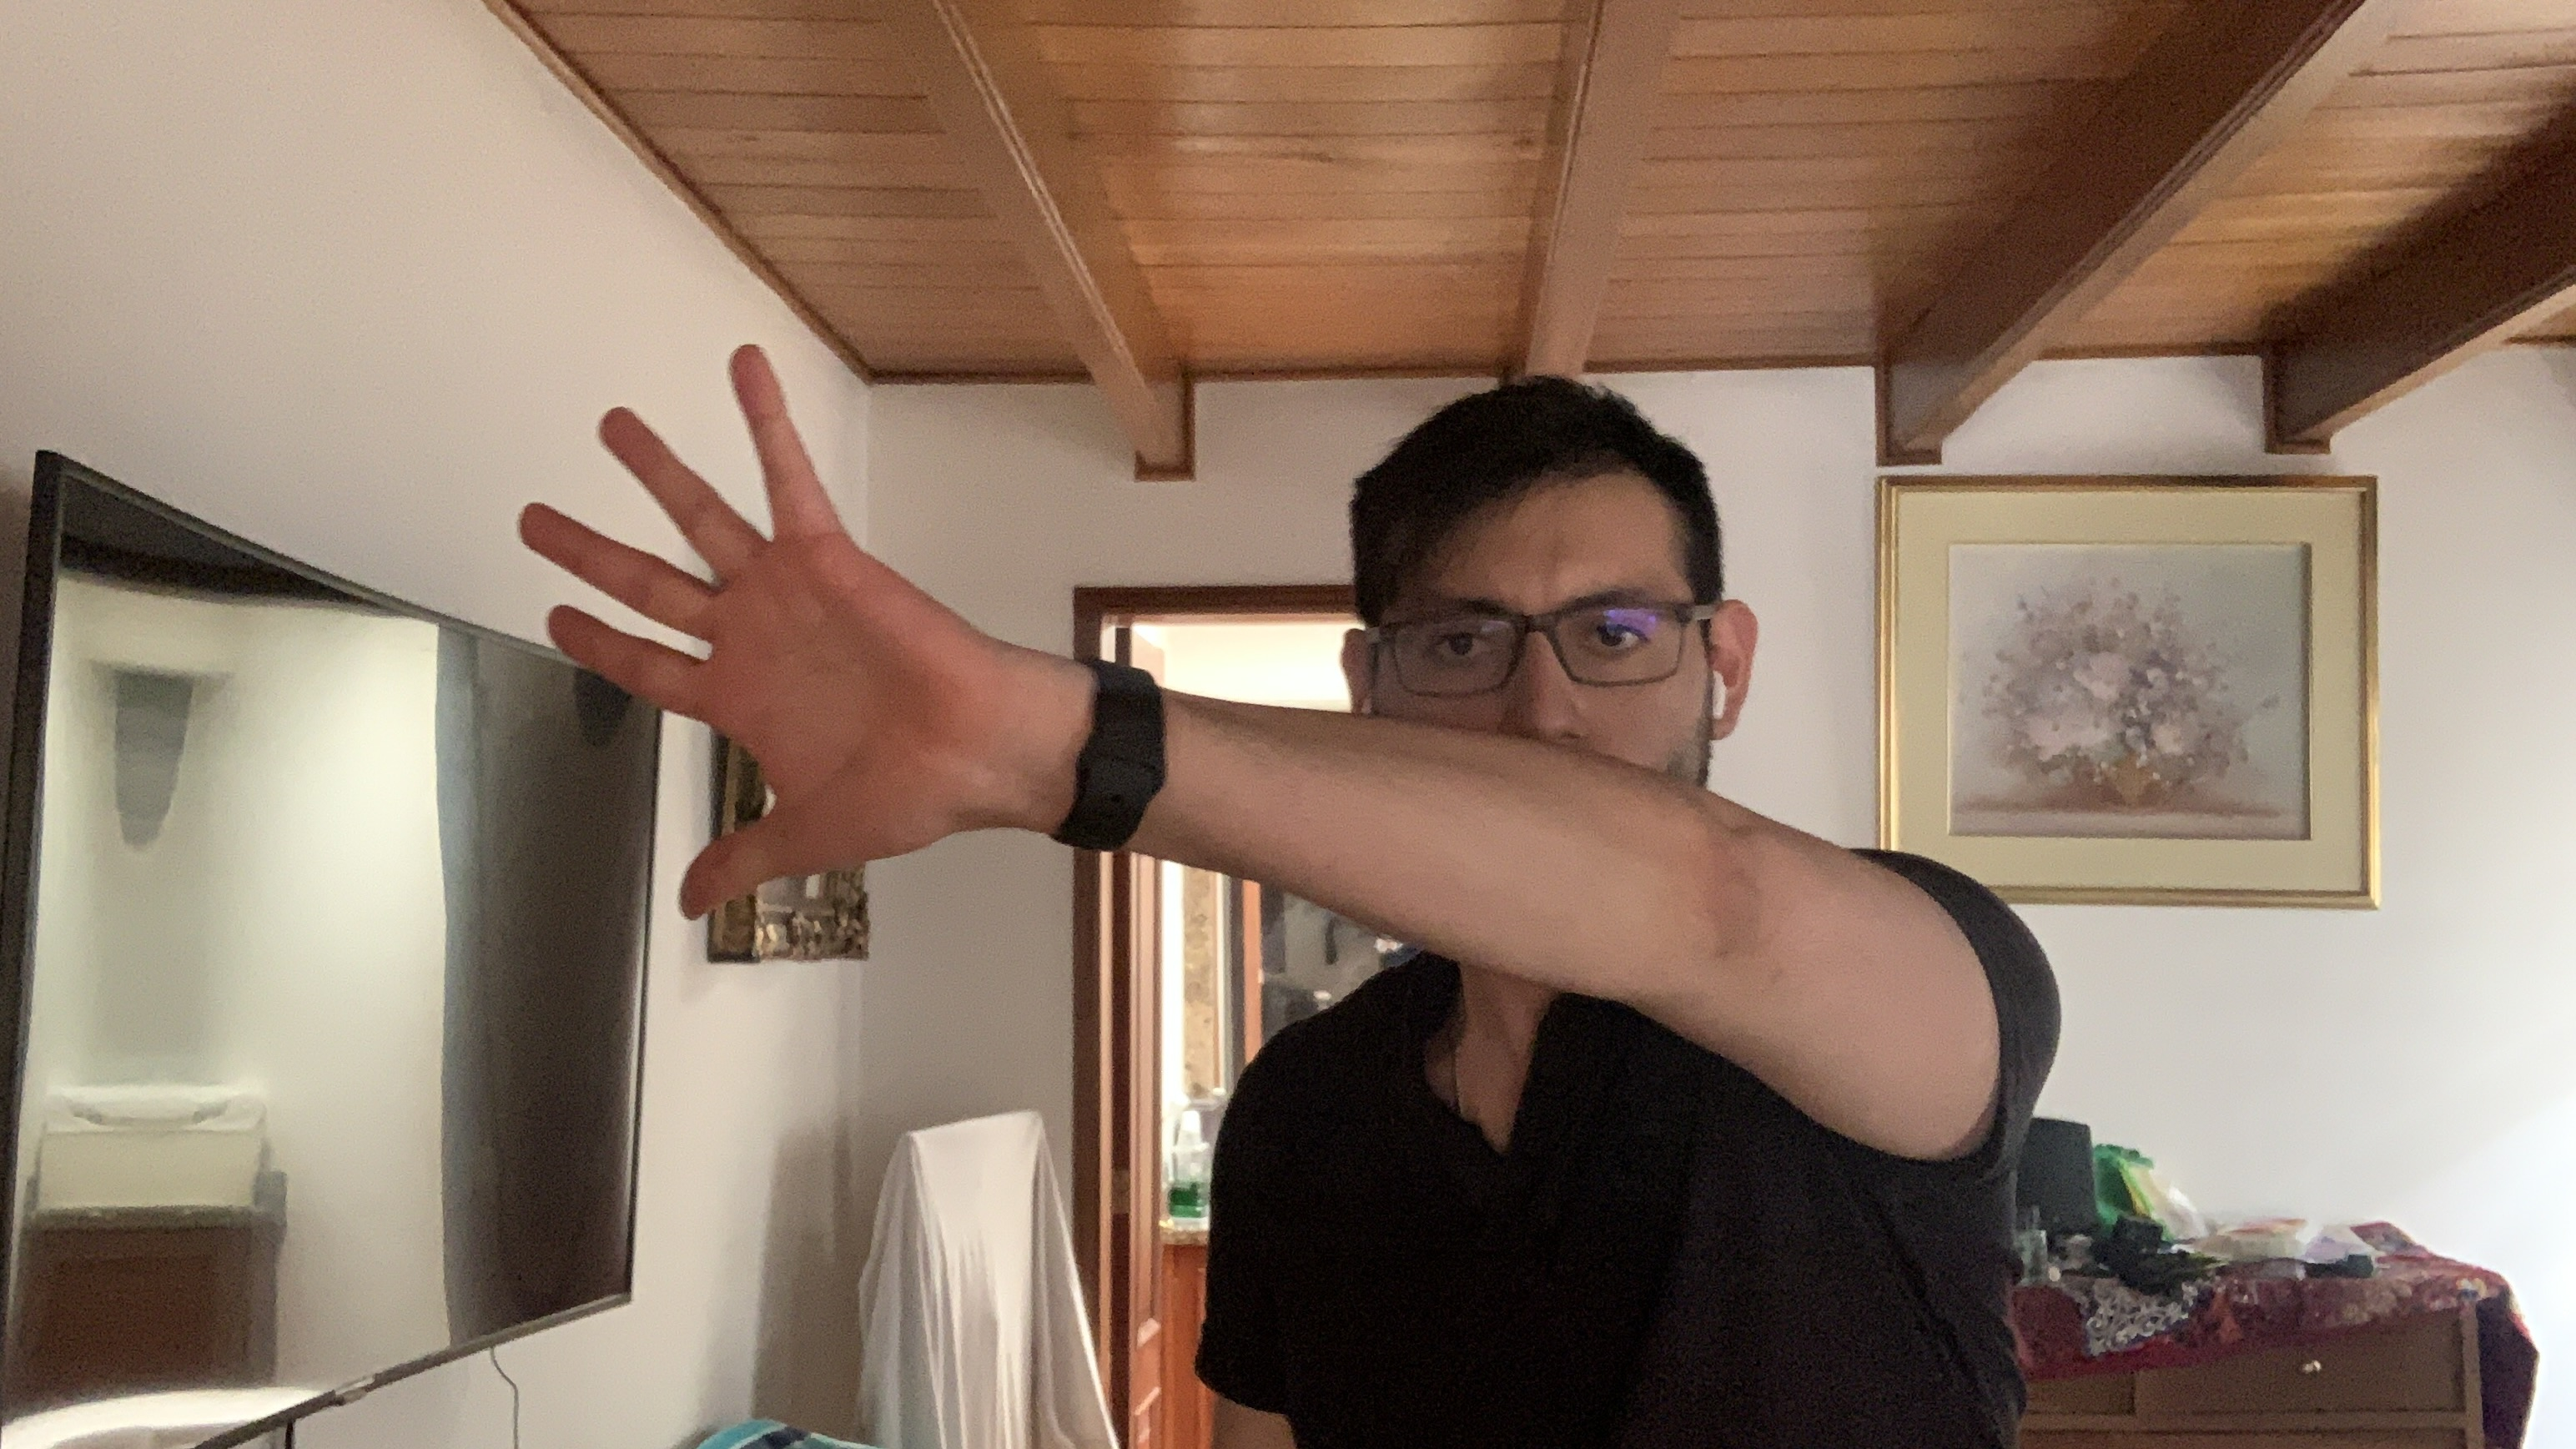Hello: (508, 315, 1044, 931)
